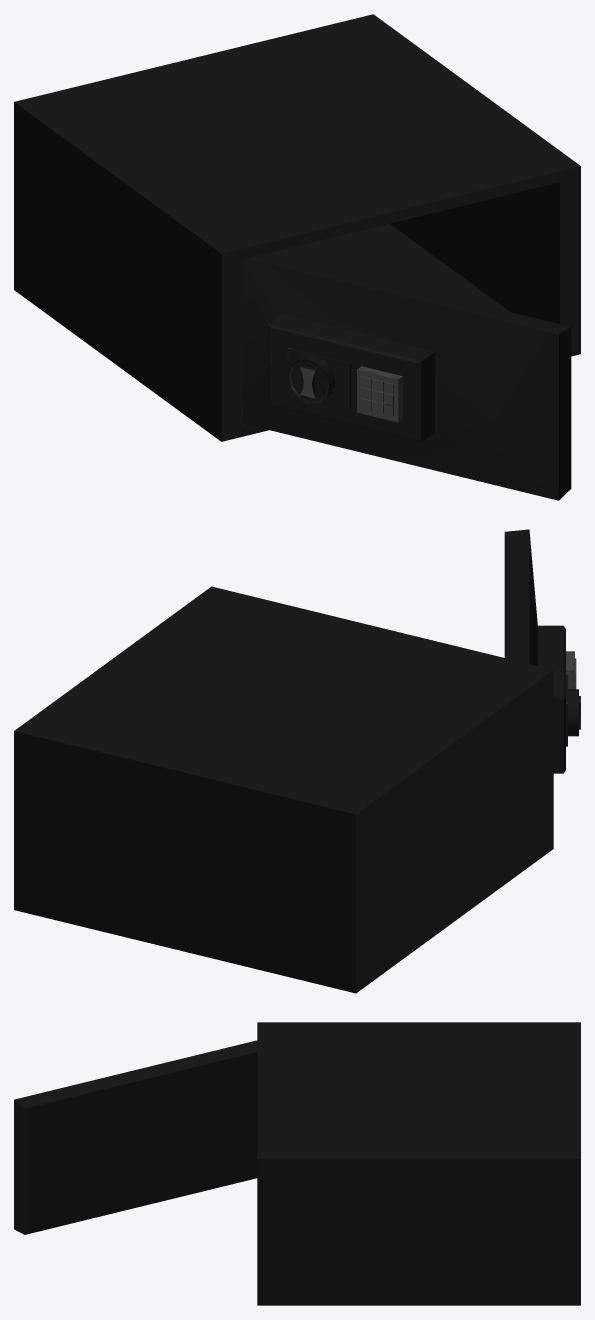
Rendered from open_vault.fbx.
3 renders of one model, top to bottom at view 1: azimuth 30°, elevation 25°; view 2: azimuth 150°, elevation 25°; view 3: azimuth 270°, elevation 25°, orthographic. The views are drawn at different scales.
Visible parts, largest first — view 1: pCube6; view 2: pCube6; view 3: pCube6.
Part boxes in pixels (box(x1,y1,x2,y2)): pCube6: box(14, 14, 580, 500); pCube6: box(14, 529, 580, 993); pCube6: box(14, 1022, 580, 1305).
Size of the model in its own units: 100 by 50 by 175.
Materials: 1 (1 with a texture image).
